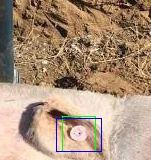text: (62, 116, 95, 151)
